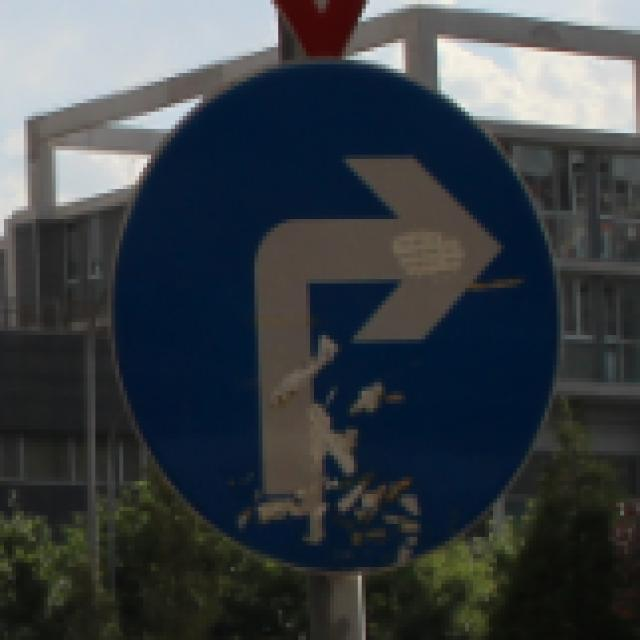Right: (115, 58, 564, 571)
